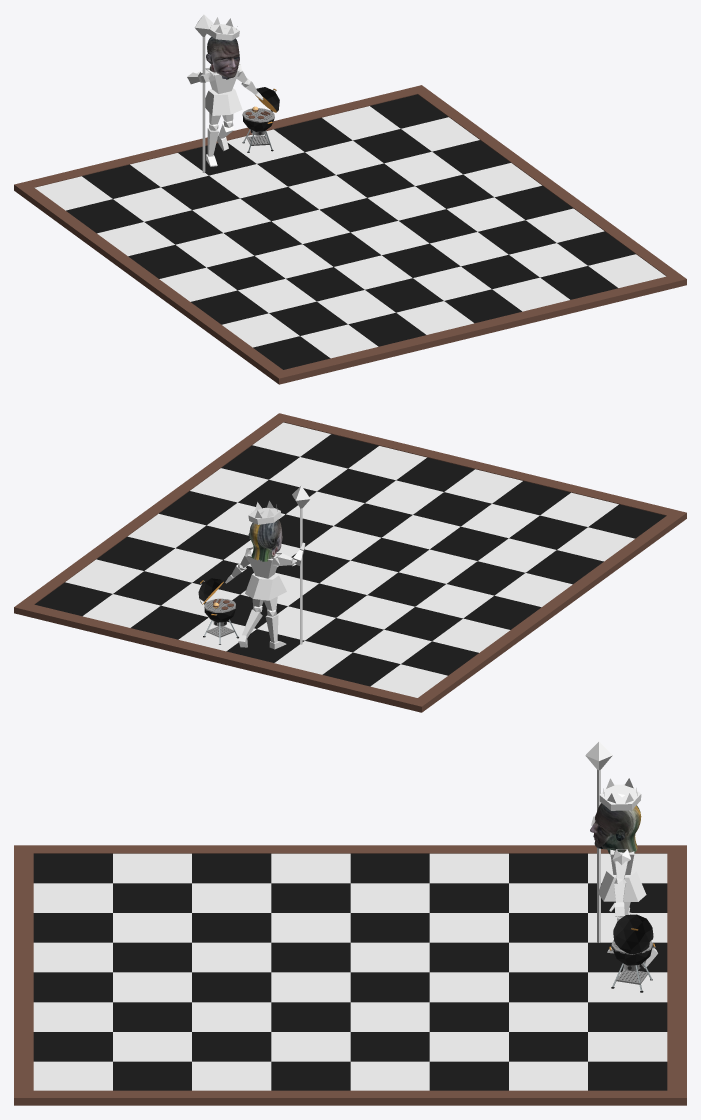
File: mitrikas2.glb
3 renders of one model, top to bottom at view 1: azimuth 30°, elevation 25°; view 2: azimuth 150°, elevation 25°; view 3: azimuth 270°, elevation 25°, orthographic. The views are drawn at different scales.
Parts seen in each view (by area): view 1: group878460196, group1325720107, Statue1, group1235043960, group731066650, group1148246740, group326102516, group332330213, group503694705, group636937857, group661305979, group872355897 (+59 smaller); view 2: group731066650, group1325720107, Statue1, group878460196, group1235043960, group7783894, group1447184045, group1461628158, group1805710264, group99279570, group332330213, group577121870 (+59 smaller); view 3: group1235043960, group1325720107, group878460196, group731066650, Statue1, group33993732, group1790432942, group2140935133, group523605633, group1461628158, group1990307613, group2029711187 (+59 smaller).
Part boxes in pixels (left/top/right/bottom): group878460196: left=284, top=273, right=686, bottom=381; group1325720107: left=21, top=187, right=290, bottom=384; Statue1: left=187, top=14, right=263, bottom=172; group1235043960: left=412, top=85, right=678, bottom=276; group731066650: left=14, top=88, right=417, bottom=195; group1148246740: left=286, top=267, right=364, bottom=301; group326102516: left=509, top=243, right=587, bottom=277; group332330213: left=192, top=198, right=270, bottom=232; group503694705: left=257, top=152, right=335, bottom=186; group636937857: left=478, top=220, right=556, bottom=254; group661305979: left=447, top=197, right=525, bottom=231; group872355897: left=336, top=163, right=414, bottom=197; group731066650: left=26, top=604, right=429, bottom=712; group1325720107: left=418, top=510, right=686, bottom=706; Statue1: left=225, top=486, right=310, bottom=649; group878460196: left=271, top=413, right=674, bottom=515; group1235043960: left=14, top=419, right=283, bottom=615; group7783894: left=319, top=560, right=397, bottom=594; group1447184045: left=221, top=445, right=299, bottom=479; group1461628158: left=334, top=503, right=412, bottom=537; group1805710264: left=478, top=538, right=556, bottom=572; group99279570: left=159, top=491, right=237, bottom=525; group332330213: left=336, top=595, right=414, bottom=629; group577121870: left=144, top=548, right=222, bottom=582; group1235043960: left=33, top=1090, right=686, bottom=1105; group1325720107: left=14, top=845, right=667, bottom=853; group878460196: left=14, top=853, right=33, bottom=1105; group731066650: left=667, top=845, right=686, bottom=1090; Statue1: left=585, top=741, right=657, bottom=968; group33993732: left=271, top=942, right=350, bottom=972; group1790432942: left=271, top=972, right=350, bottom=1002; group2140935133: left=271, top=853, right=350, bottom=883; group523605633: left=350, top=972, right=429, bottom=1002; group1461628158: left=192, top=972, right=271, bottom=1002; group1990307613: left=429, top=972, right=508, bottom=1002; group2029711187: left=33, top=972, right=112, bottom=1002.
Size of the model in its own units: 7.05 by 2.71 by 7.94.
13 materials, 1 textured.
